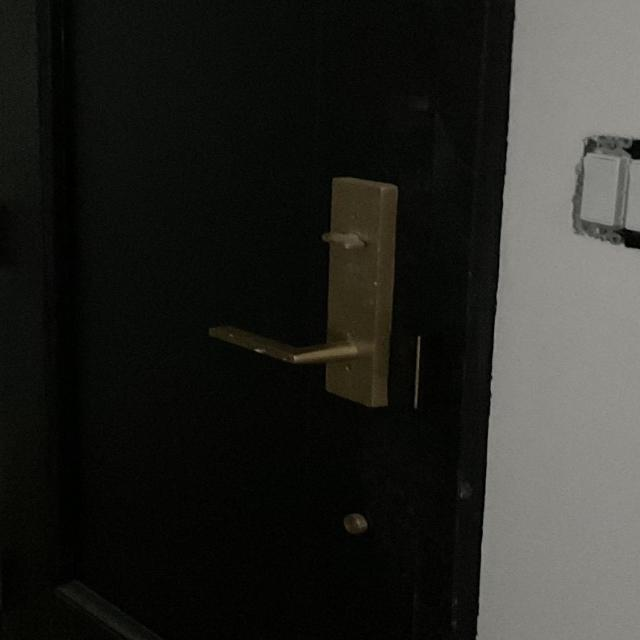door_handle: (192, 306, 426, 384)
